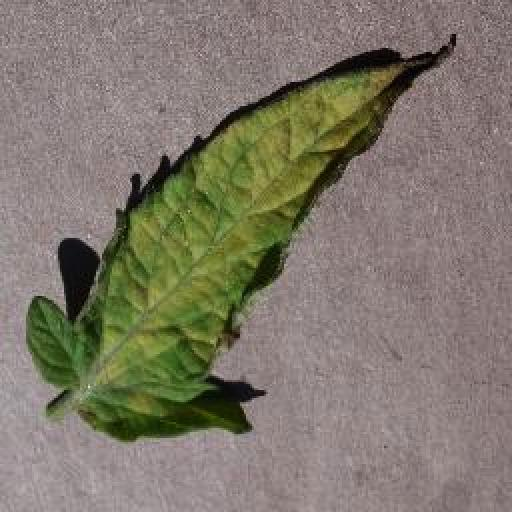disease_tomato: (27, 49, 435, 439)
